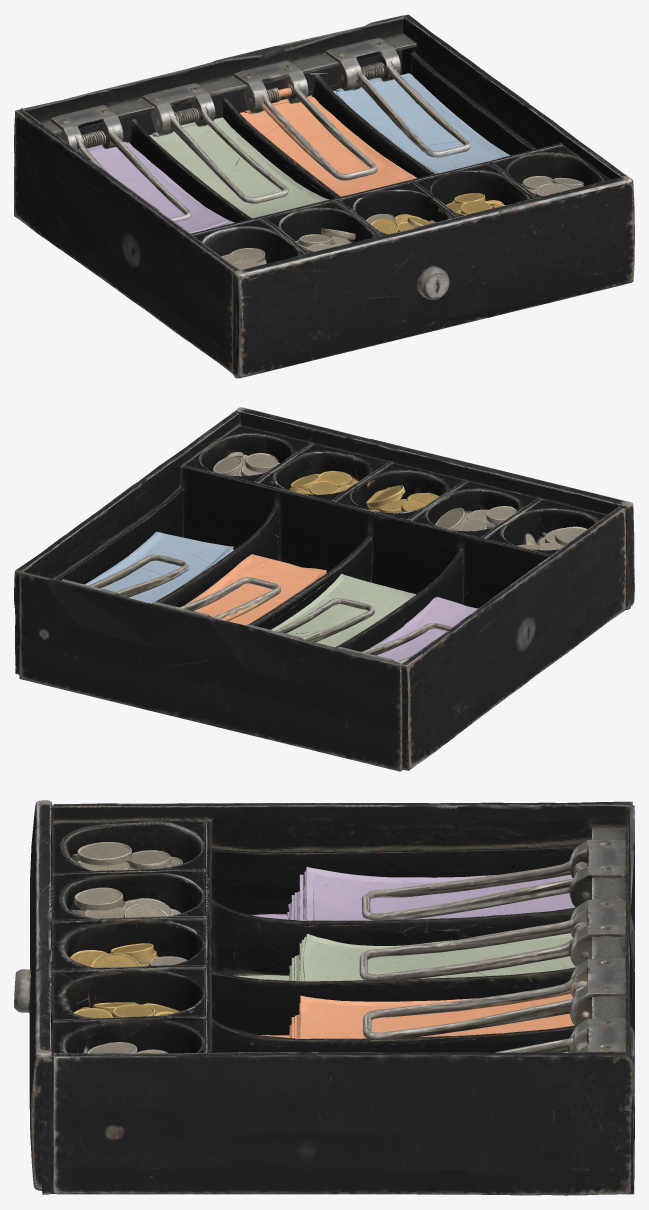
Rendered from original-till.glb.
The picture shows the model from 3 angles, top to bottom: view 1: azimuth 30°, elevation 25°; view 2: azimuth 150°, elevation 25°; view 3: azimuth 270°, elevation 25°; orthographic projection. The views are drawn at different scales.
Visible parts, largest first — view 1: Mesh_0; view 2: Mesh_0; view 3: Mesh_0.
Part boxes in pixels (x1,y1,x2,y2): Mesh_0: [14, 14, 634, 378]; Mesh_0: [14, 407, 634, 771]; Mesh_0: [14, 800, 634, 1195].
Size of the model in its own units: 1.87 by 0.4827 by 1.9.
1 material, 1 textured.
